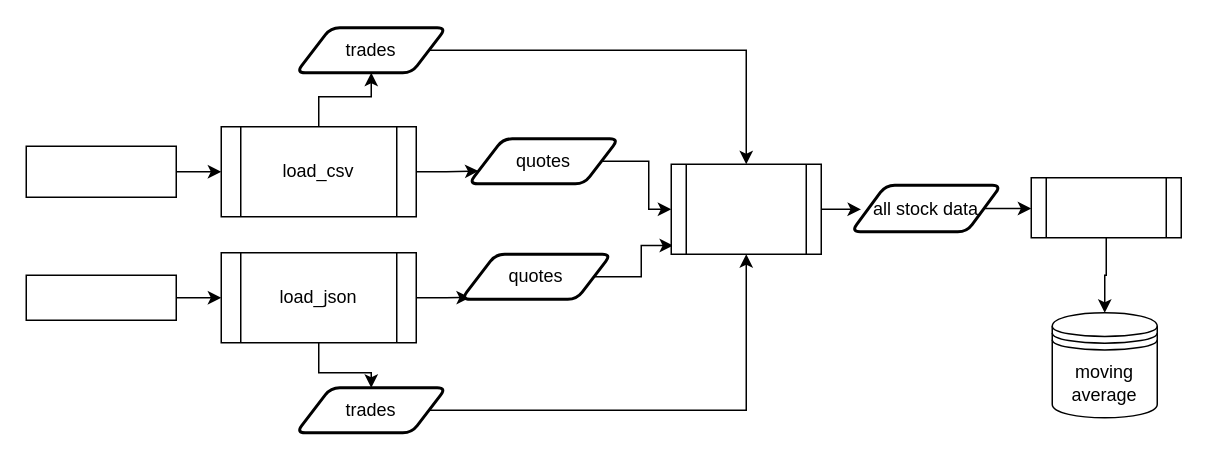
The diagram is 1208 pixels wide and 459 high, and some of its shapes have lost their labels. Each missing label, with the centre of its shape:
"analytical_etl" belongs at (x=1105, y=207).
"combine trades and quotes" belongs at (x=745, y=208).
"csv data source" belongs at (x=100, y=171).
"json data source" belongs at (x=100, y=297).
